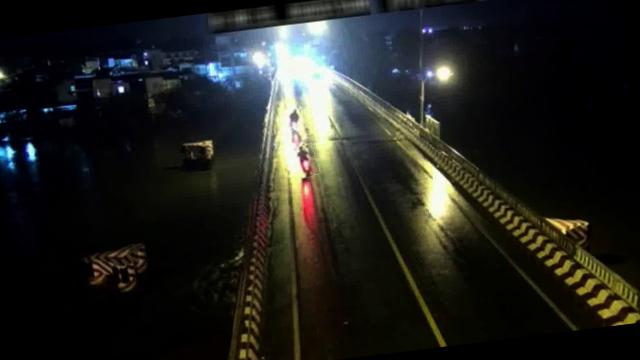Bike: (292, 143, 318, 178), (285, 107, 302, 131)
